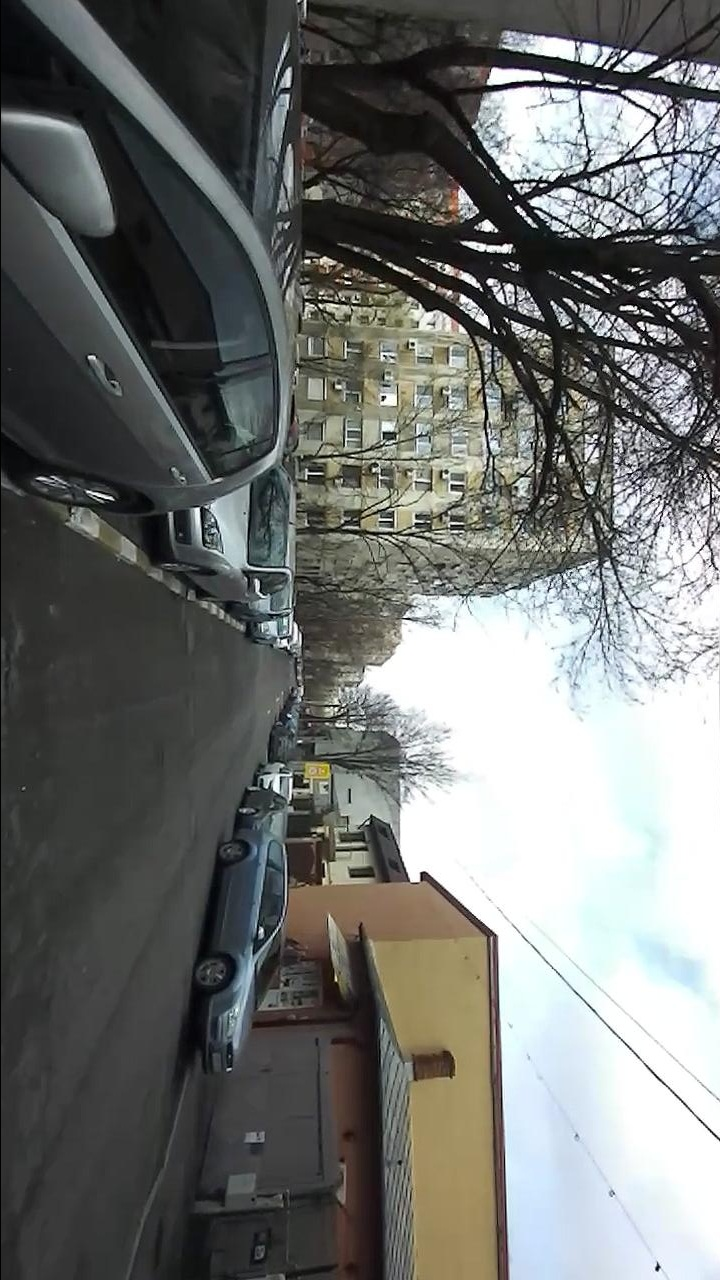pothole: (0, 613, 27, 726)
